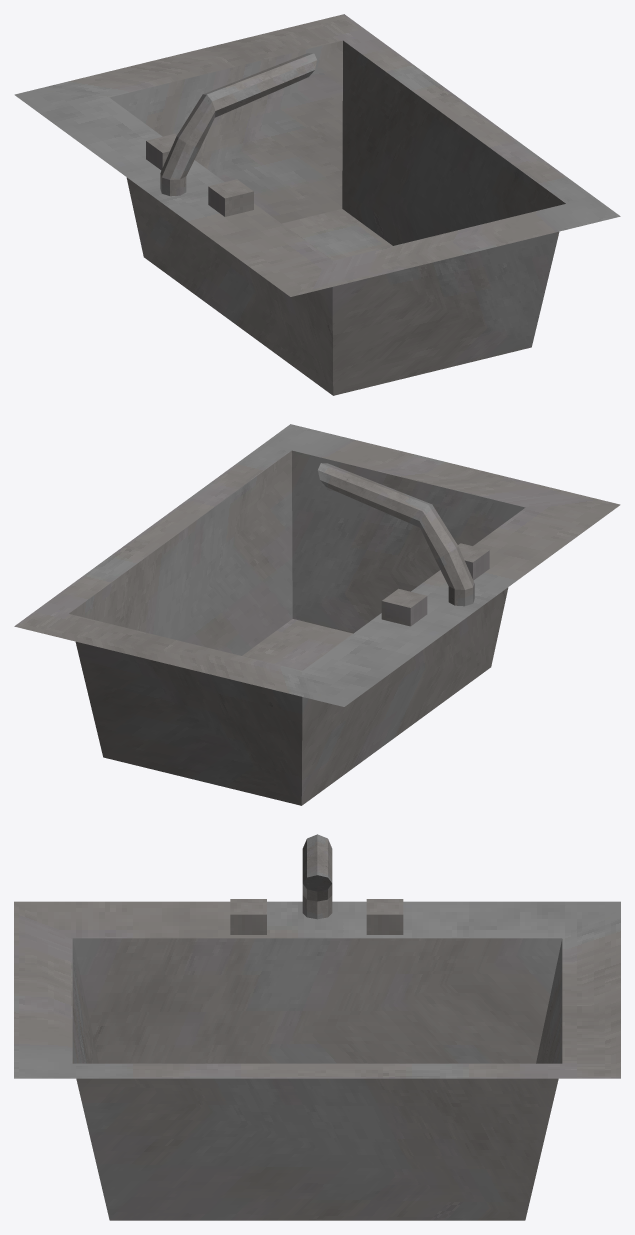
File: sink.glb
3 renders of one model, top to bottom at view 1: azimuth 30°, elevation 25°; view 2: azimuth 150°, elevation 25°; view 3: azimuth 270°, elevation 25°, orthographic. The views are drawn at different scales.
Parts seen in each view (by area): view 1: sink, fosset, Cube.001, Cube; view 2: sink, fosset, Cube, Cube.001; view 3: sink, fosset, Cube, Cube.001.
Boxes of the visible parts, left/top/right/bottom form: sink: left=14, top=14, right=620, bottom=395; fosset: left=160, top=53, right=316, bottom=196; Cube.001: left=208, top=179, right=253, bottom=216; Cube: left=146, top=134, right=176, bottom=170; sink: left=14, top=424, right=620, bottom=805; fosset: left=318, top=463, right=474, bottom=606; Cube: left=381, top=588, right=427, bottom=626; Cube.001: left=458, top=543, right=489, bottom=580; sink: left=14, top=901, right=620, bottom=1220; fosset: left=302, top=834, right=332, bottom=919; Cube: left=366, top=899, right=403, bottom=934; Cube.001: left=230, top=899, right=266, bottom=934.
Size of the model in its own units: 2.28 by 1.68 by 3.31.
3 materials, 3 textured.
